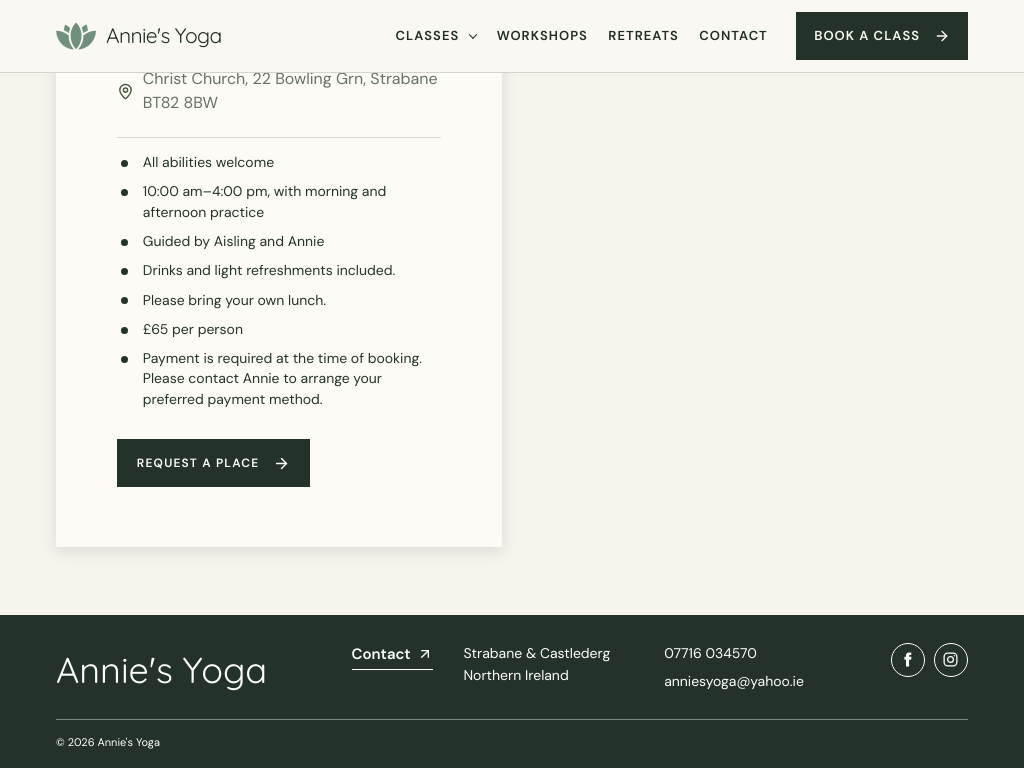
Test: WorkshopsPage › opens the shared workshop reservation flow
(page scrolled)
Click the button "Request a place": point(214, 463) [117,439,310,487]
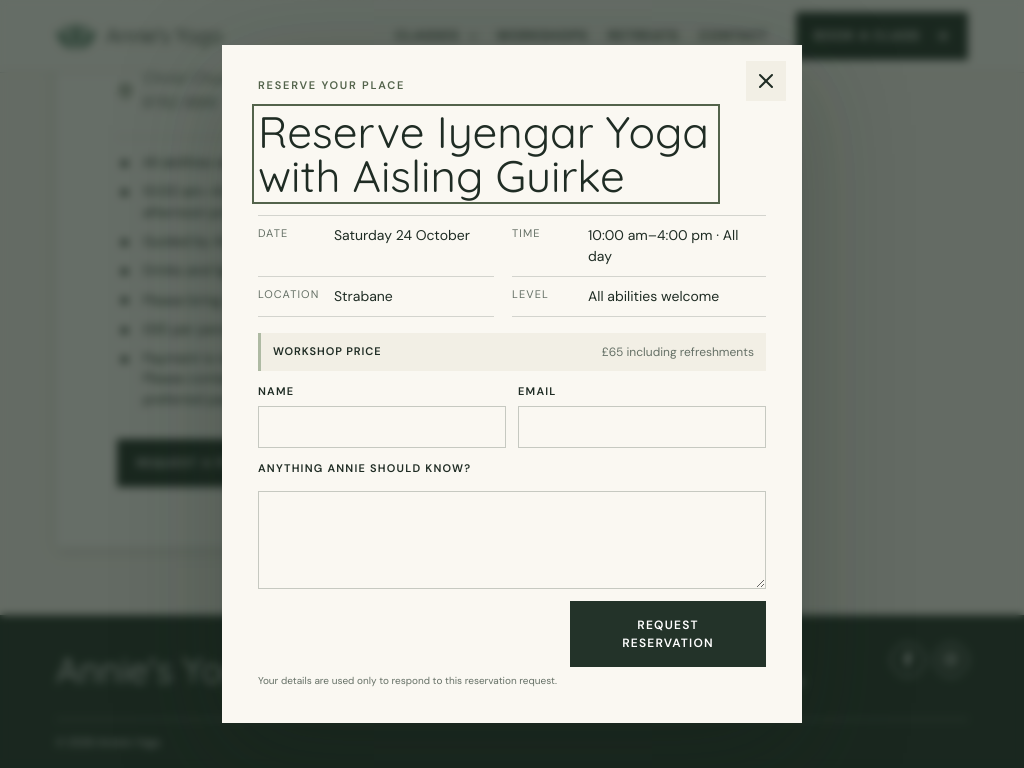
Expected: the dialog "Reserve Iyengar Yoga with Aisling Guirke" shows "Saturday 24 October", [334,226,470,244]
Expected: the dialog "Reserve Iyengar Yoga with Aisling Guirke" shows "All abilities welcome", [588,287,719,305]
Expected: the element named "Workshop pricing" shows "£65 including refreshments", [258,333,766,371]
